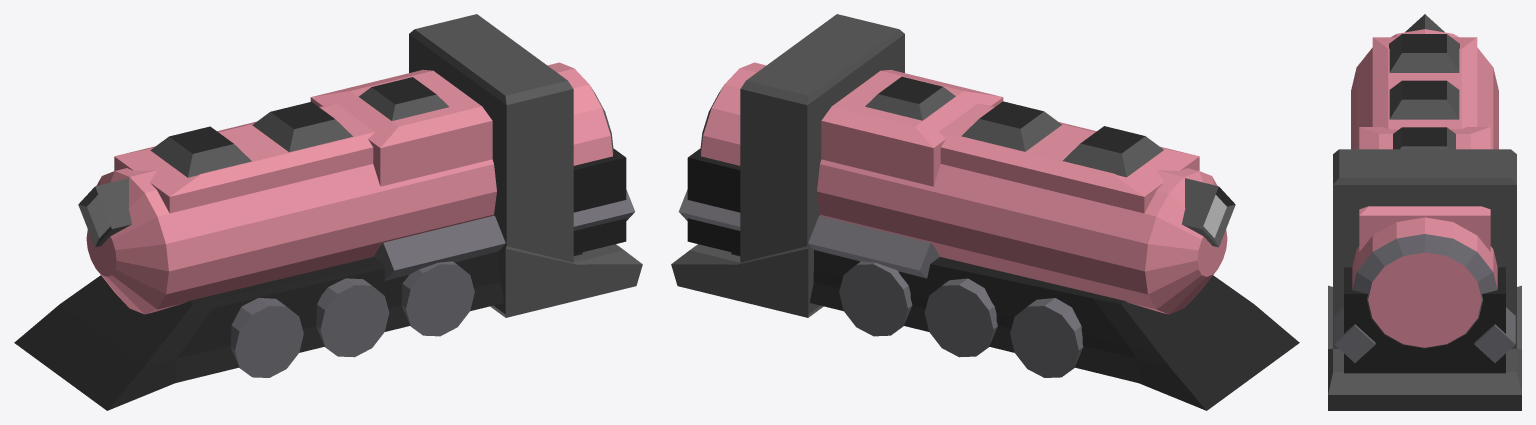
The model's file is TrainCabinUpdated.glb.
3 views of the same model, side by side, from view 1: azimuth 30°, elevation 25°; view 2: azimuth 150°, elevation 25°; view 3: azimuth 270°, elevation 25° (orthographic). The views are drawn at different scales.
Parts seen in each view (by area): view 1: cabine de comando; view 2: cabine de comando; view 3: cabine de comando.
Boxes of the visible parts, left/top/right/bottom form: cabine de comando: left=14, top=14, right=642, bottom=410; cabine de comando: left=671, top=14, right=1299, bottom=410; cabine de comando: left=1328, top=14, right=1521, bottom=410.
Size of the model in its own units: 9.32 by 3.74 by 3.12.
